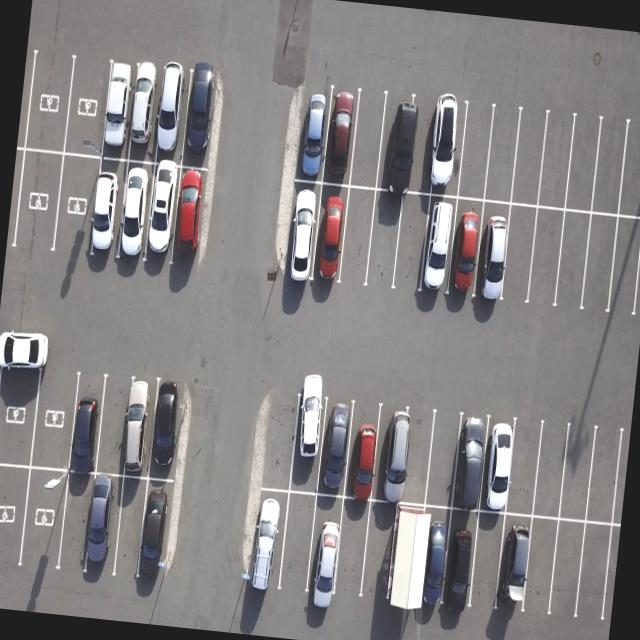car: (379, 506, 426, 617), (406, 507, 453, 617), (302, 490, 348, 602), (436, 506, 484, 612), (374, 89, 423, 192), (136, 478, 182, 586), (247, 489, 292, 599), (168, 166, 216, 269), (309, 183, 355, 290), (446, 414, 494, 516), (82, 474, 128, 580), (82, 154, 126, 264), (288, 394, 334, 498), (470, 198, 515, 304), (284, 176, 326, 288), (112, 376, 158, 478), (494, 513, 538, 619), (115, 156, 158, 264), (140, 161, 183, 268), (372, 404, 418, 504), (474, 415, 520, 514), (340, 401, 386, 500), (314, 396, 359, 497), (424, 101, 469, 201), (418, 194, 461, 298), (64, 370, 107, 474), (442, 196, 484, 302), (321, 88, 364, 188), (148, 64, 190, 166), (180, 70, 222, 170), (146, 380, 188, 480), (96, 60, 136, 162), (296, 85, 334, 185), (126, 64, 164, 164), (242, 490, 277, 598)
free: (51, 151, 103, 263), (29, 363, 82, 472), (12, 148, 63, 258), (18, 468, 70, 574), (22, 46, 72, 154), (275, 492, 322, 602), (63, 54, 112, 159), (462, 506, 510, 613), (516, 515, 564, 620), (540, 518, 588, 622), (255, 391, 303, 493), (572, 522, 618, 626), (94, 373, 140, 477), (328, 498, 373, 604), (0, 355, 40, 468), (503, 418, 548, 518), (388, 192, 432, 294), (584, 424, 628, 526), (554, 423, 598, 525), (336, 188, 379, 292), (497, 202, 540, 306), (418, 410, 463, 509), (347, 88, 391, 189), (526, 206, 569, 309), (551, 210, 594, 313), (528, 419, 572, 519), (356, 502, 400, 602), (577, 210, 619, 314), (53, 471, 95, 575), (109, 476, 150, 582), (361, 190, 404, 290), (395, 413, 438, 510), (588, 117, 630, 216), (452, 104, 493, 202), (507, 110, 548, 208), (537, 115, 578, 212), (482, 106, 522, 204), (562, 116, 602, 213), (608, 215, 640, 321), (0, 463, 28, 572), (617, 119, 640, 218)
